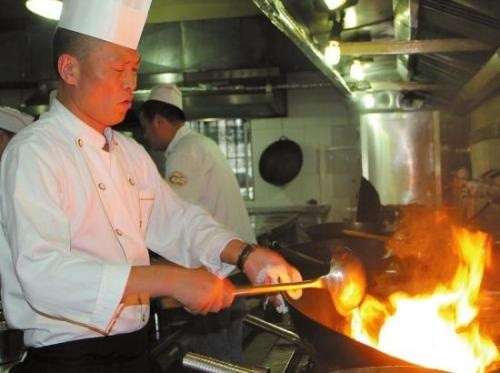fire: (326, 222, 500, 372)
